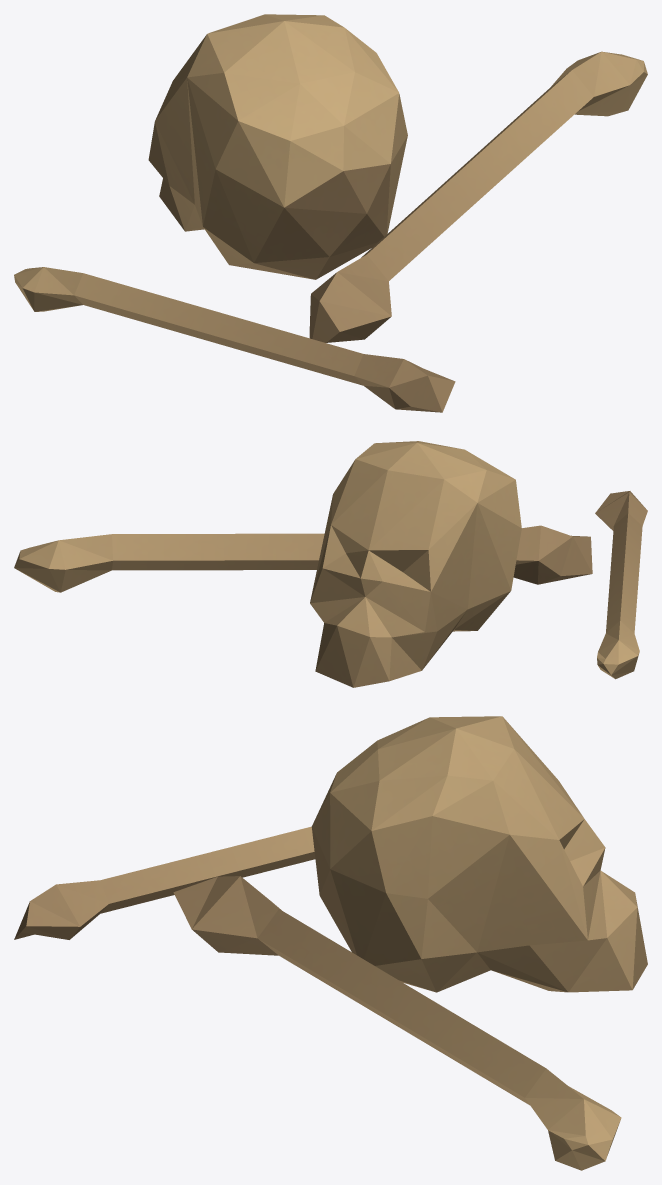
The model's file is Skull_3A.fbx.
The picture shows the model from 3 angles, top to bottom: view 1: azimuth 30°, elevation 25°; view 2: azimuth 150°, elevation 25°; view 3: azimuth 270°, elevation 25°; orthographic projection. The views are drawn at different scales.
Visible parts, largest first — view 1: polySurface1325; view 2: polySurface1325; view 3: polySurface1325.
Part boxes in pixels (box(x1,y1,x2,y2)): polySurface1325: box(14, 14, 647, 412); polySurface1325: box(14, 441, 647, 687); polySurface1325: box(14, 716, 647, 1170).
Bounding box in the file's own units: 1.92 × 0.6328 × 1.45.
